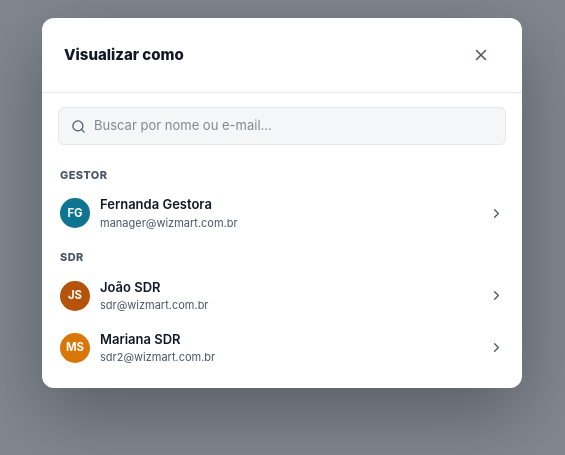
Test case: ViewAsModal — busca › filtra por e-mail
Type "sdr2@" into the field named "Buscar usuário" at (294, 126), box [94,116,493,136]
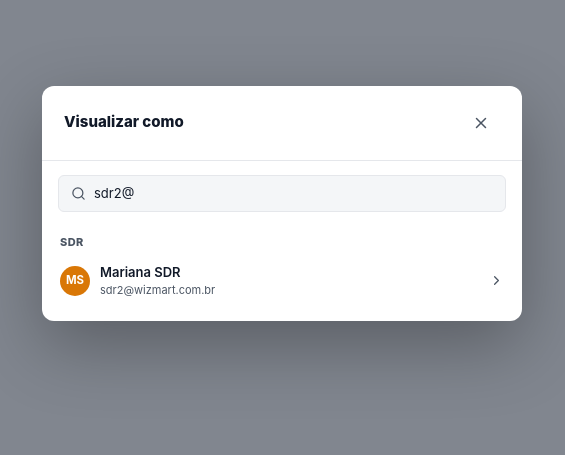
Check: the text "Mariana SDR" is shown, box [100,264,181,280]
Check: the button "João SDR" is gone
